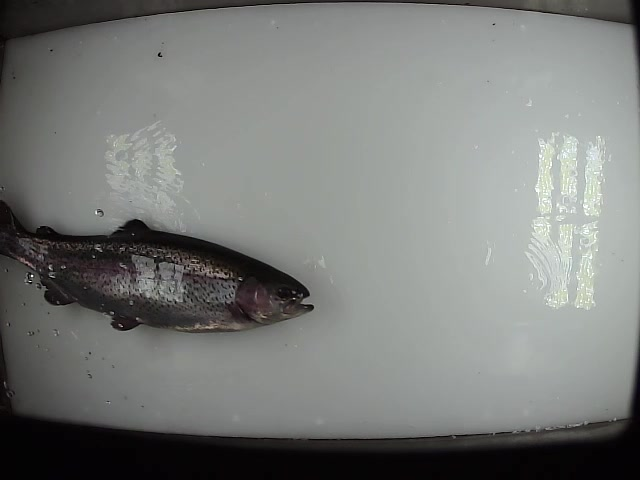fish: (1, 197, 316, 333)
